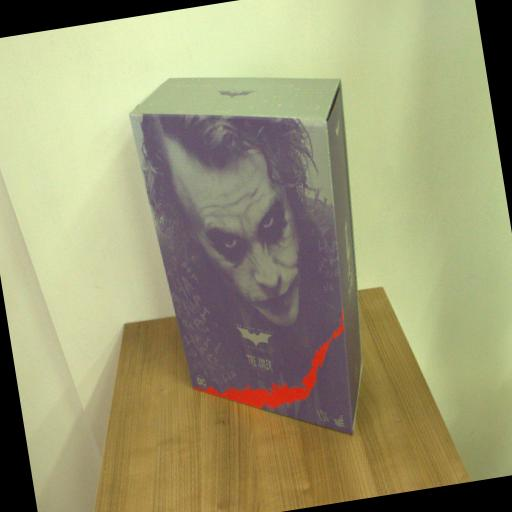Joker: (122, 48, 400, 464)
